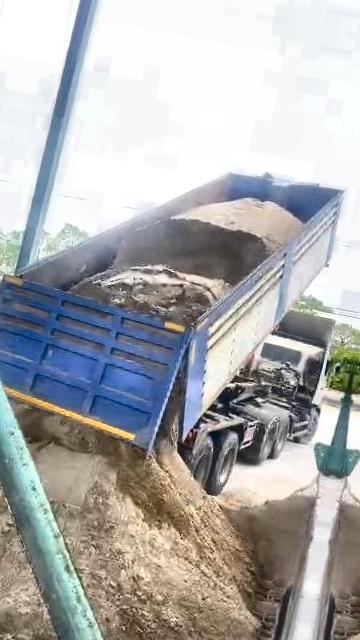sand: (18, 409, 258, 640), (72, 198, 302, 323), (0, 394, 54, 640), (208, 488, 313, 585)
